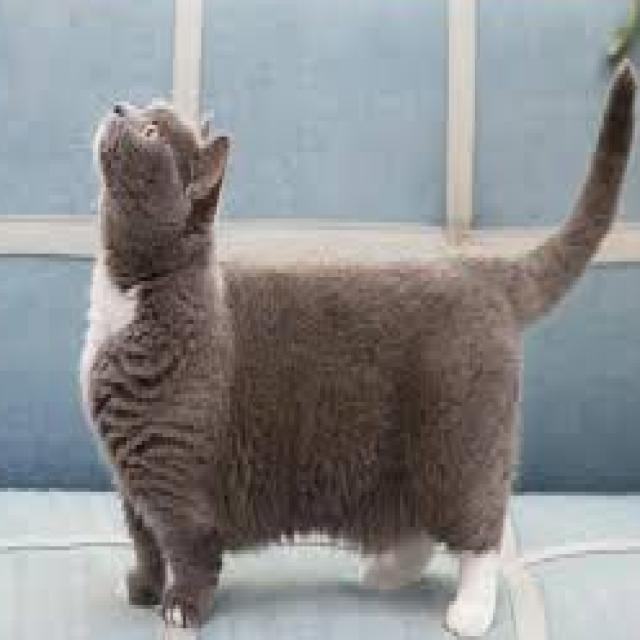Munchkin: (72, 50, 639, 640)
